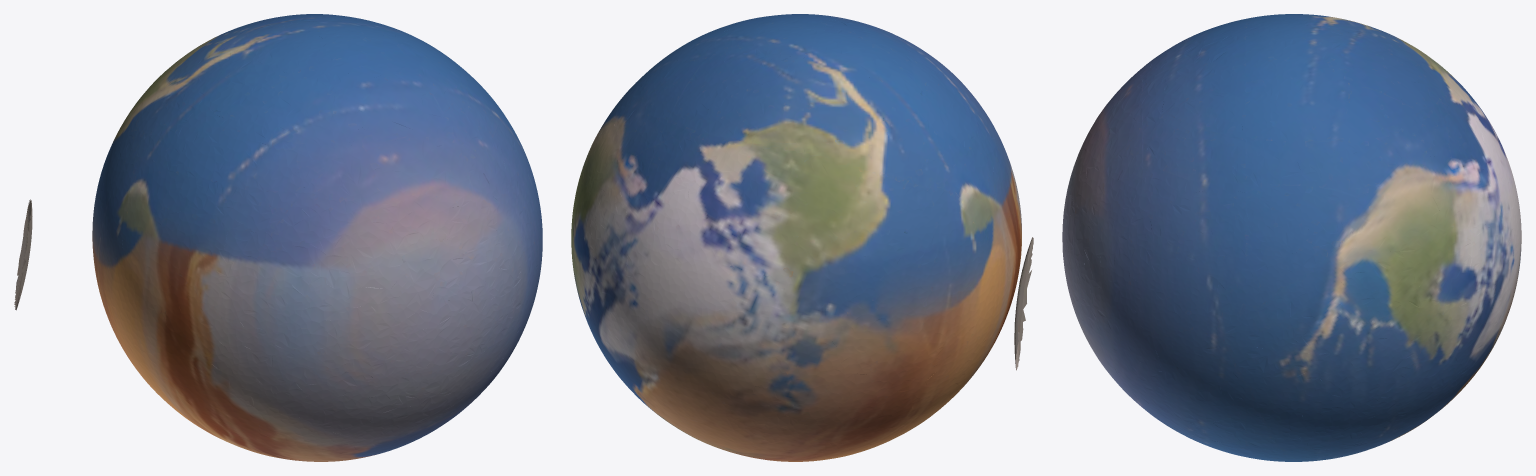
Rendered from planet_5.glb.
3 renders of one model, left to right at view 1: azimuth 30°, elevation 25°; view 2: azimuth 150°, elevation 25°; view 3: azimuth 270°, elevation 25°, orthographic.
Visible parts, largest first — view 1: geometry_0; view 2: geometry_0; view 3: geometry_0.
Boxes of the visible parts, x1,y1,x2,y2 form: geometry_0: (14, 14, 542, 461); geometry_0: (571, 14, 1033, 461); geometry_0: (1062, 14, 1521, 461).
Bounding box in the file's own units: 0.2981 × 0.2518 × 0.2582.
1 material, 1 textured.
